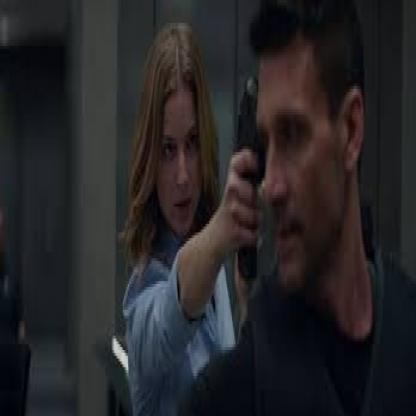Pistol: (237, 66, 262, 270)
